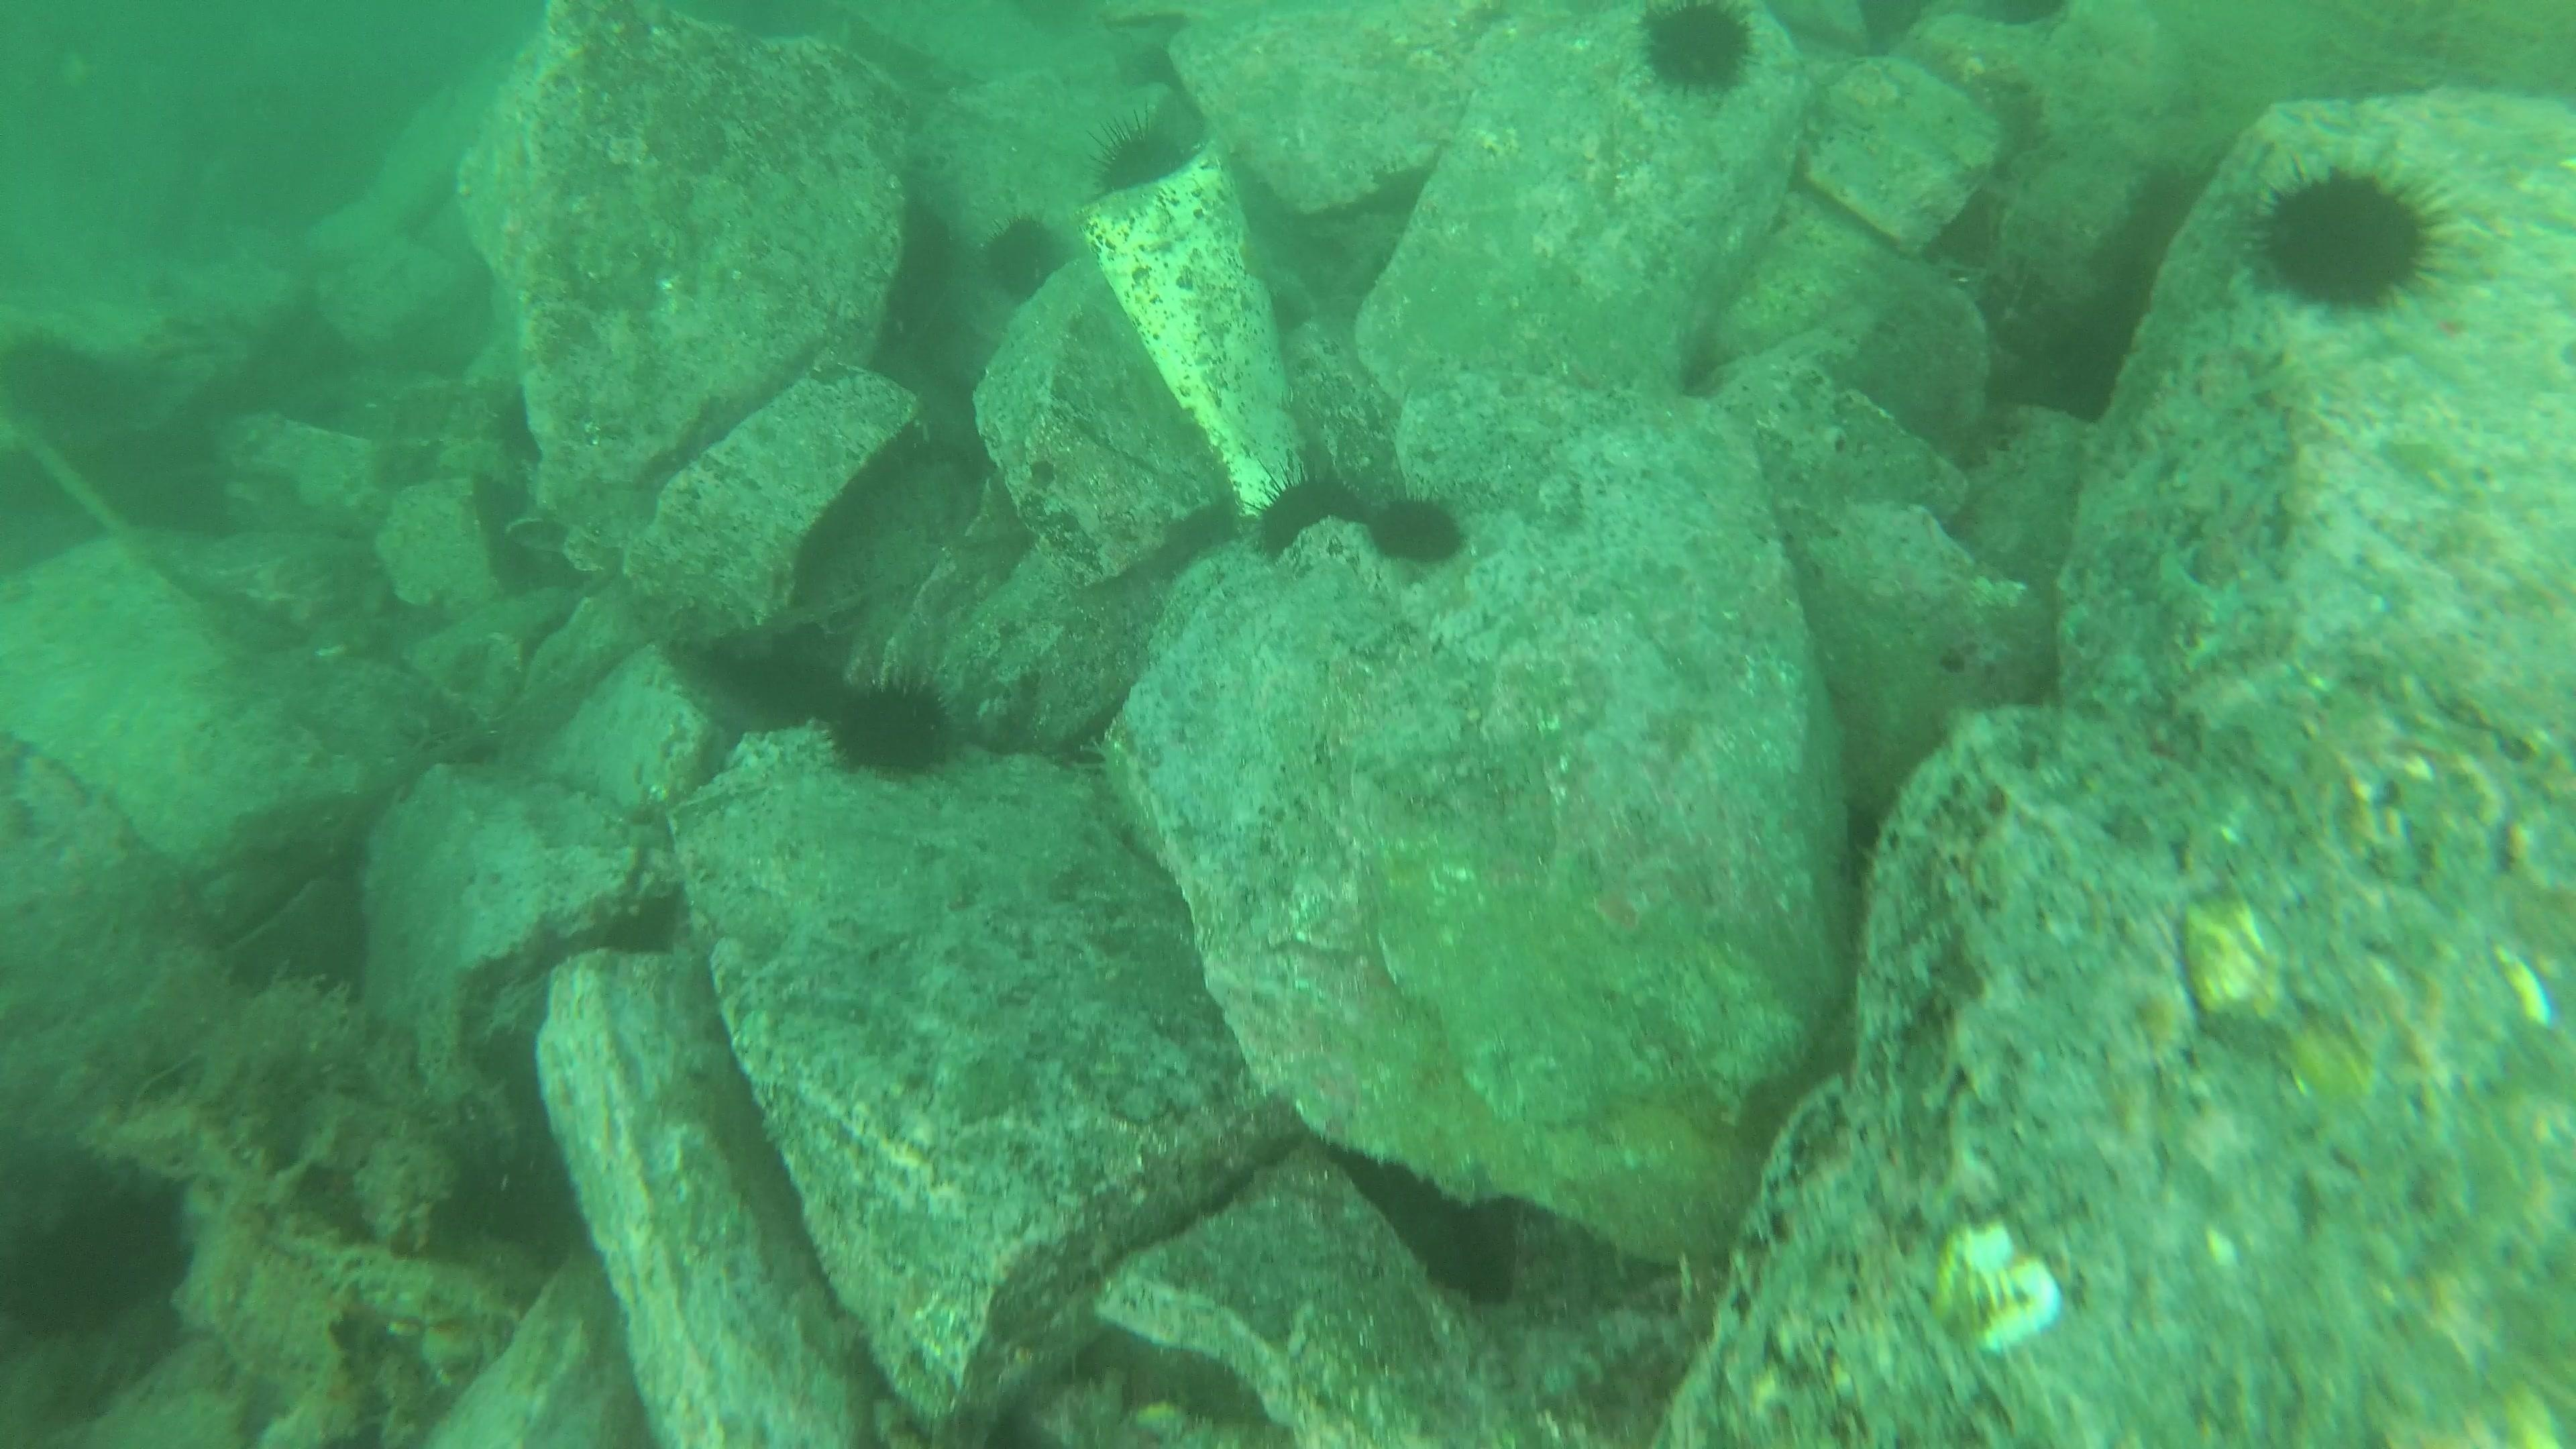echinus: (2243, 150, 2456, 322), (819, 669, 966, 786), (1629, 2, 1764, 101), (1247, 460, 1369, 566), (1246, 467, 1362, 573), (1086, 108, 1203, 205), (1361, 485, 1472, 575), (977, 209, 1070, 304)
